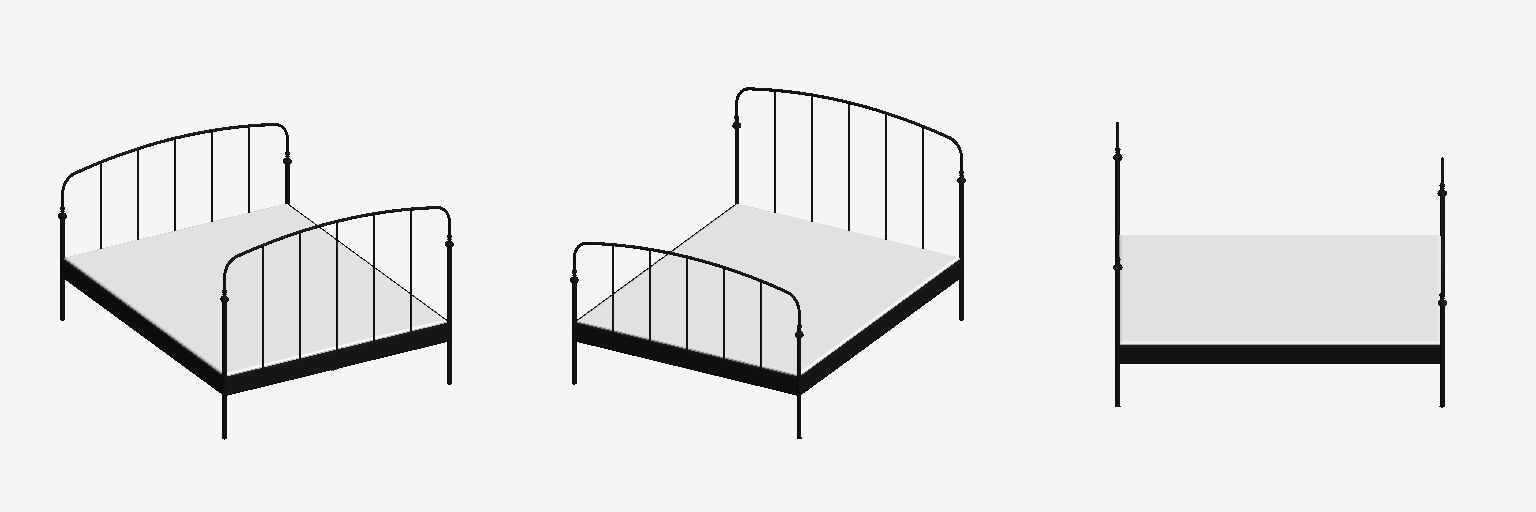
3 views of the same model, side by side, from view 1: azimuth 30°, elevation 25°; view 2: azimuth 150°, elevation 25°; view 3: azimuth 270°, elevation 25° (orthographic).
Visible parts, largest first — view 1: Mesh8 Komponente_11_1 Komponente_12_1 Model, Mesh22 Komponente_2_2 Komponente_12_1 Model, Mesh1 Komponente_8_1 Komponente_12_1 Model, Mesh9 Komponente_6_1 Komponente_12_1 Model, Mesh21 Komponente_7_1 Komponente_12_1 Model, Mesh20 Komponente_1_1 Komponente_12_1 Model, Mesh11 Komponente_4_1 Komponente_12_1 Model; view 2: Mesh8 Komponente_11_1 Komponente_12_1 Model, Mesh19 Komponente_2_1 Komponente_12_1 Model, Mesh1 Komponente_8_1 Komponente_12_1 Model, Mesh9 Komponente_6_1 Komponente_12_1 Model, Mesh11 Komponente_4_1 Komponente_12_1 Model, Mesh20 Komponente_1_1 Komponente_12_1 Model, Mesh21 Komponente_7_1 Komponente_12_1 Model; view 3: Mesh8 Komponente_11_1 Komponente_12_1 Model, Mesh10 Komponente_8_2 Komponente_12_1 Model, Mesh21 Komponente_7_1 Komponente_12_1 Model, Mesh11 Komponente_4_1 Komponente_12_1 Model.
Boxes of the visible parts, box(x1,y1,x2,y2) form: Mesh8 Komponente_11_1 Komponente_12_1 Model: box(64, 204, 446, 375); Mesh22 Komponente_2_2 Komponente_12_1 Model: box(227, 323, 448, 395); Mesh1 Komponente_8_1 Komponente_12_1 Model: box(62, 259, 221, 393); Mesh9 Komponente_6_1 Komponente_12_1 Model: box(220, 220, 337, 438); Mesh21 Komponente_7_1 Komponente_12_1 Model: box(338, 206, 453, 383); Mesh20 Komponente_1_1 Komponente_12_1 Model: box(58, 137, 175, 319); Mesh11 Komponente_4_1 Komponente_12_1 Model: box(175, 123, 291, 204); Mesh8 Komponente_11_1 Komponente_12_1 Model: box(577, 204, 959, 375); Mesh19 Komponente_2_1 Komponente_12_1 Model: box(575, 323, 796, 395); Mesh1 Komponente_8_1 Komponente_12_1 Model: box(801, 259, 961, 394); Mesh9 Komponente_6_1 Komponente_12_1 Model: box(848, 101, 965, 319); Mesh11 Komponente_4_1 Komponente_12_1 Model: box(570, 242, 686, 383); Mesh20 Komponente_1_1 Komponente_12_1 Model: box(686, 255, 803, 438); Mesh21 Komponente_7_1 Komponente_12_1 Model: box(732, 87, 848, 203); Mesh8 Komponente_11_1 Komponente_12_1 Model: box(1119, 235, 1440, 344); Mesh10 Komponente_8_2 Komponente_12_1 Model: box(1119, 345, 1439, 363); Mesh21 Komponente_7_1 Komponente_12_1 Model: box(1113, 160, 1122, 406); Mesh11 Komponente_4_1 Komponente_12_1 Model: box(1438, 196, 1446, 406).
Bounding box in the file's own units: 0.57 × 0.4475 × 0.7093.